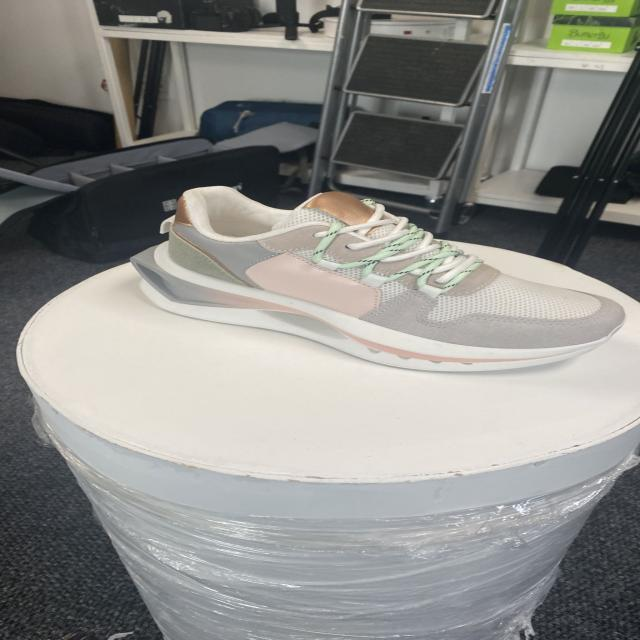shoe: (126, 182, 632, 374)
